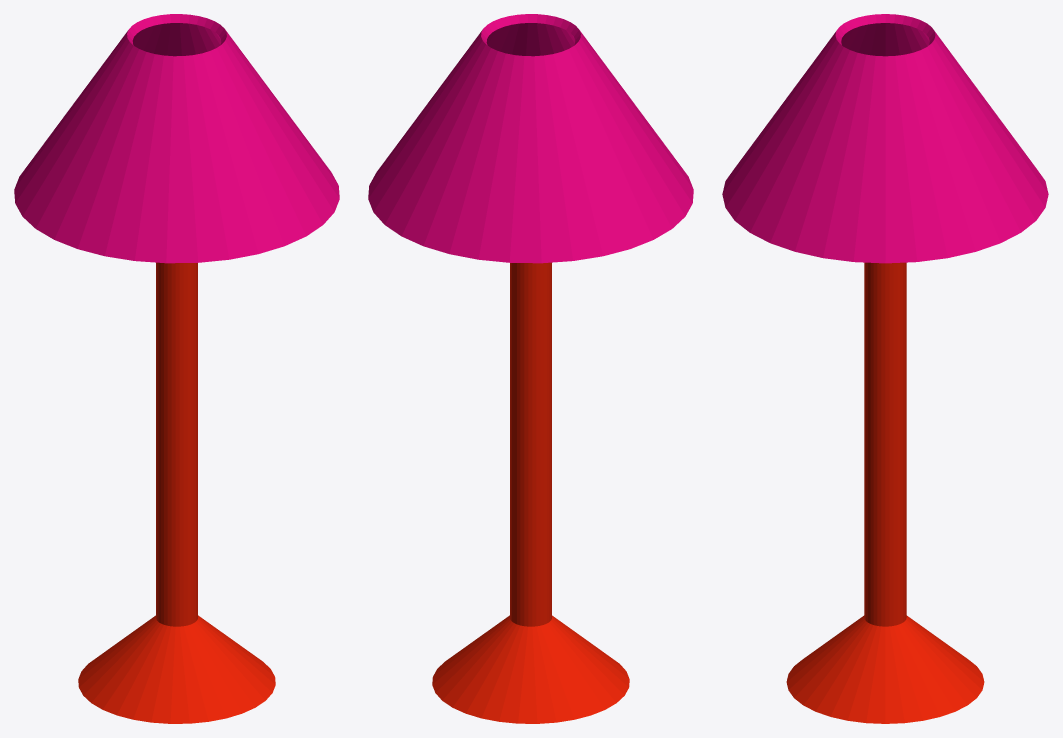
File: HG_model_lamp.fbx
3 views of the same model, side by side, from view 1: azimuth 30°, elevation 25°; view 2: azimuth 150°, elevation 25°; view 3: azimuth 270°, elevation 25° (orthographic).
Parts seen in each view (by area): view 1: Cylinder.001; view 2: Cylinder.001; view 3: Cylinder.001.
Part boxes in pixels (box(x1,y1,x2,y2)): Cylinder.001: box(14, 14, 339, 723); Cylinder.001: box(368, 14, 693, 723); Cylinder.001: box(722, 14, 1048, 723).
Bounding box in the file's own units: 371 × 812 × 371.
